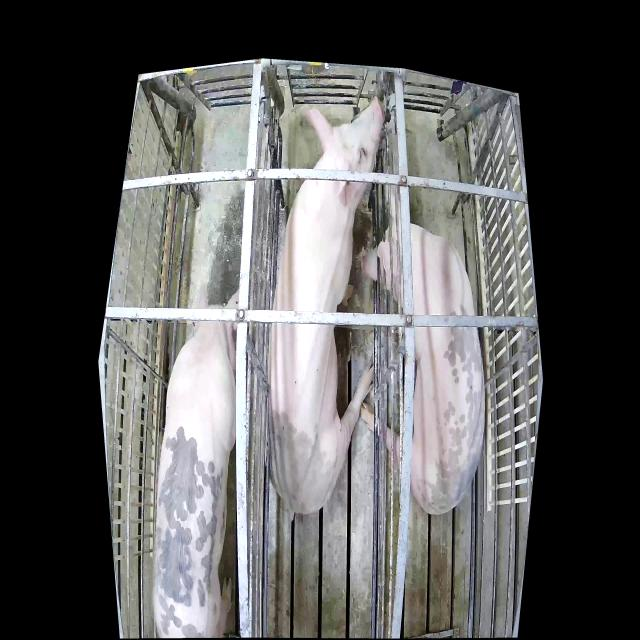pig: (268, 98, 387, 514), (360, 219, 485, 516), (154, 284, 239, 636)
